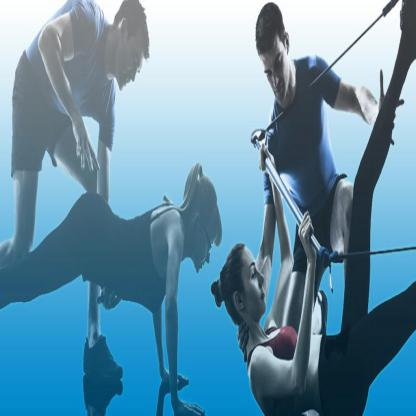face: (239, 247, 268, 319), (263, 32, 290, 102), (116, 36, 145, 89), (195, 219, 219, 270)
